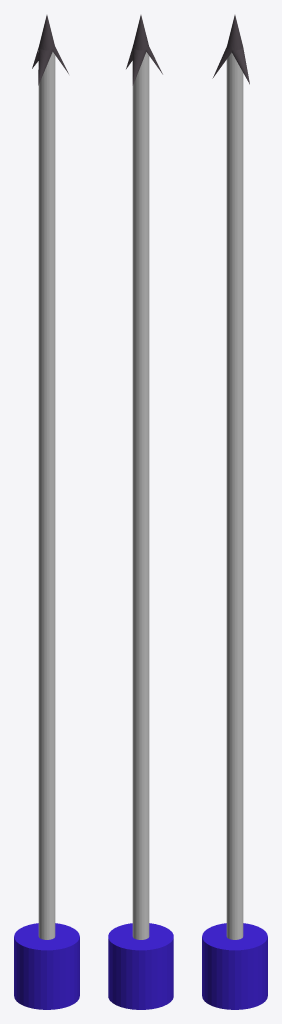
The model's file is Rope.fbx.
The picture shows the model from 3 angles, left to right: view 1: azimuth 90°, elevation 25°; view 2: azimuth 210°, elevation 25°; view 3: azimuth 270°, elevation 25°; orthographic projection.
Parts seen in each view (by area): view 1: 圓柱體; view 2: 圓柱體; view 3: 圓柱體.
Part boxes in pixels (box(x1,y1,x2,y2)): 圓柱體: box(14, 15, 79, 1009); 圓柱體: box(108, 15, 173, 1009); 圓柱體: box(202, 15, 267, 1009).
Size of the model in its own units: 45.21 by 745 by 45.21.
